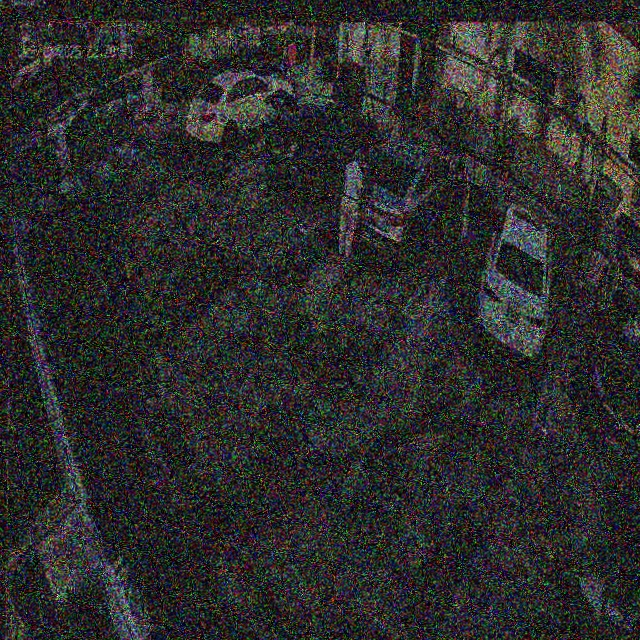Car: (465, 180, 555, 361), (264, 68, 373, 193), (351, 134, 459, 257), (183, 67, 296, 149)
